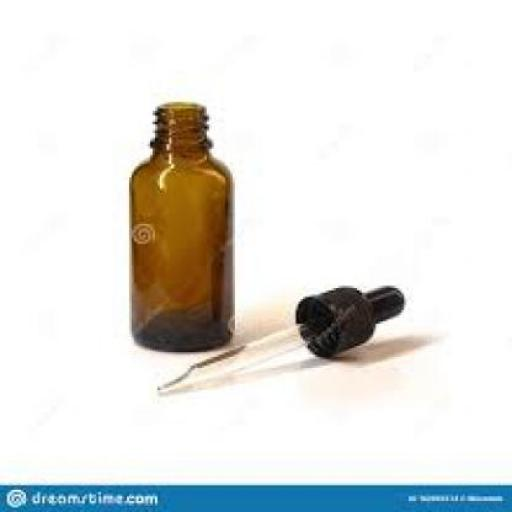glass: (129, 102, 233, 350), (154, 321, 324, 390)
plastic: (294, 284, 404, 354)
